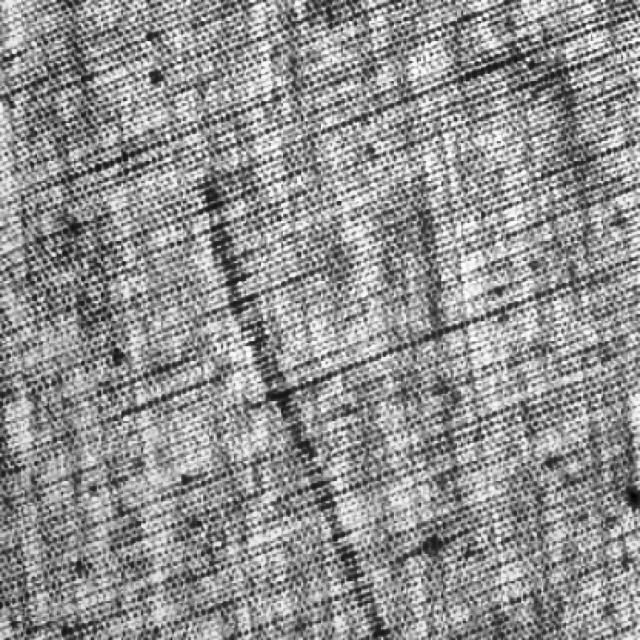oil_spot: (186, 155, 394, 640)
